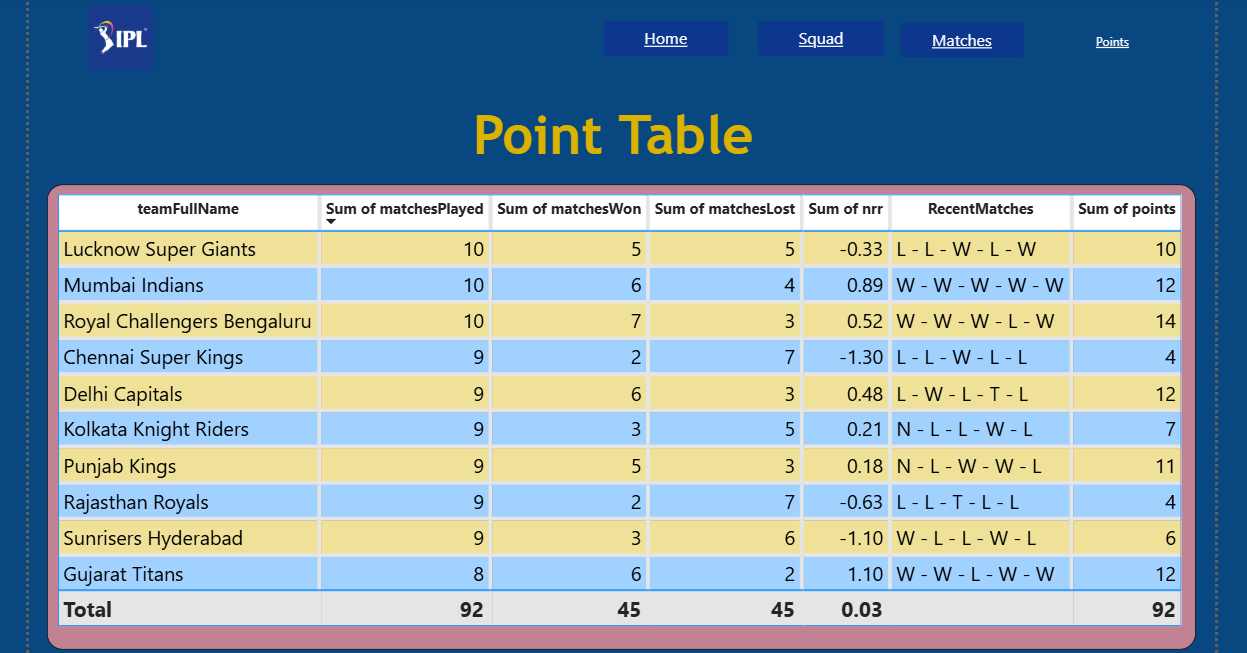

What the dashboard file says about the page in this screenshot:
{"tool":"powerbi","page":{"name":"Page 2","canvas":[1280,720],"ordinal":1},"visuals":[{"type":"tableEx","fields":{"Values":["points-table.pointsTable.pointsTableInfo.teamFullName","Sum(points-table.matchesPlayed)","Sum(points-table.matchesWon)","Sum(points-table.matchesLost)","Sum(points-table.nrr)","points-table.RecentMatches","Sum(points-table.points)"]},"box":[19.5,199.9,1239.9,502.3],"z":0},{"type":"actionButton","box":[620.8,23,134.4,37.1],"z":1000},{"type":"actionButton","box":[787.1,23,136.2,37.1],"z":2000},{"type":"actionButton","box":[940.9,24.8,132.7,37.1],"z":3000},{"type":"image","box":[44.5,0,108.2,81.1],"z":4000},{"type":"textbox","box":[18.7,105.7,1240.2,93.3],"z":5000},{"type":"actionButton","title":"Points","box":[1096.6,14.1,146.8,59],"z":6000}]}

Visuals, with their boxes on the page's 1280x720 design canvas (x1, y1, x2, y2). These are canvas units, not pixel positions in the 1247x653 screenshot, which may show the page scaled, cropped or inside an application window:
tableEx - points-table.pointsTable.pointsTableInfo.teamFullName x Sum(points-table.matchesPlayed): (left=20, top=200, right=1259, bottom=702)
actionButton: (left=621, top=23, right=755, bottom=60)
actionButton: (left=787, top=23, right=923, bottom=60)
actionButton: (left=941, top=25, right=1074, bottom=62)
image: (left=44, top=0, right=153, bottom=81)
textbox: (left=19, top=106, right=1259, bottom=199)
"Points" actionButton: (left=1097, top=14, right=1243, bottom=73)
